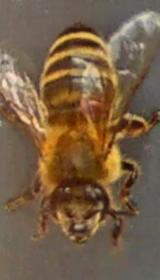varroa_mite: (68, 87, 117, 123)
